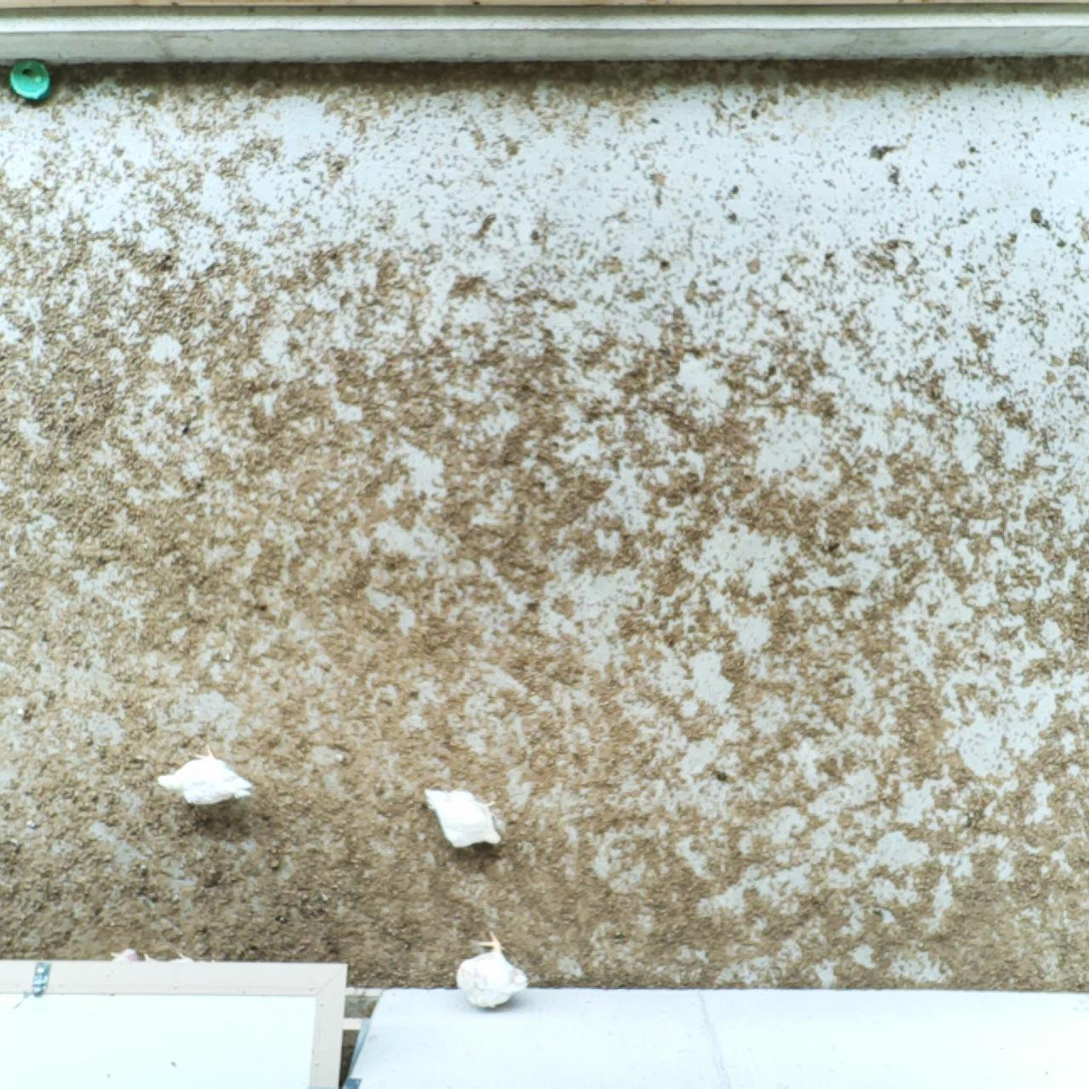chicken: (449, 924, 533, 1013), (418, 776, 512, 855), (148, 747, 262, 810)
